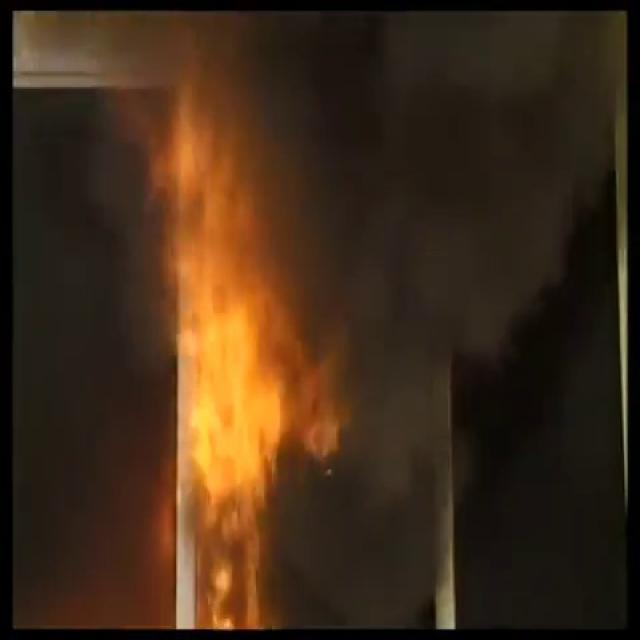Fire: (166, 203, 266, 507), (184, 494, 258, 640), (268, 300, 332, 439), (161, 122, 231, 214)
Smoke: (324, 0, 606, 297), (374, 362, 602, 629)
